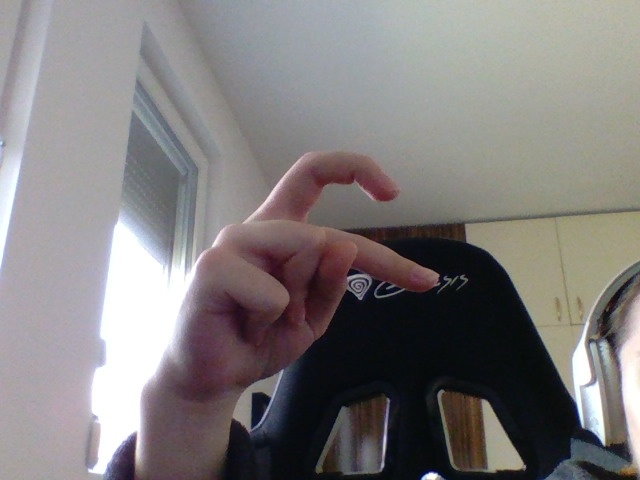HalfHeart: (162, 149, 440, 389)
